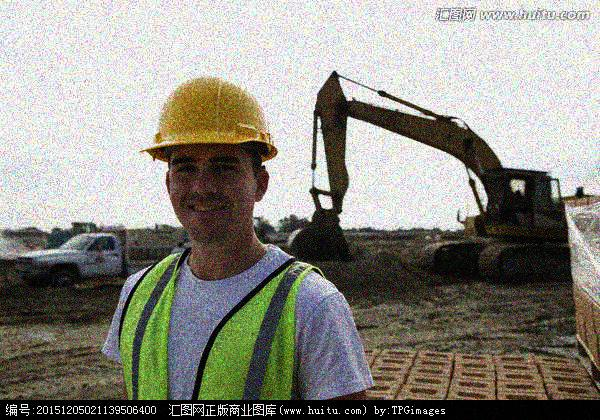helmet: (139, 74, 279, 242)
